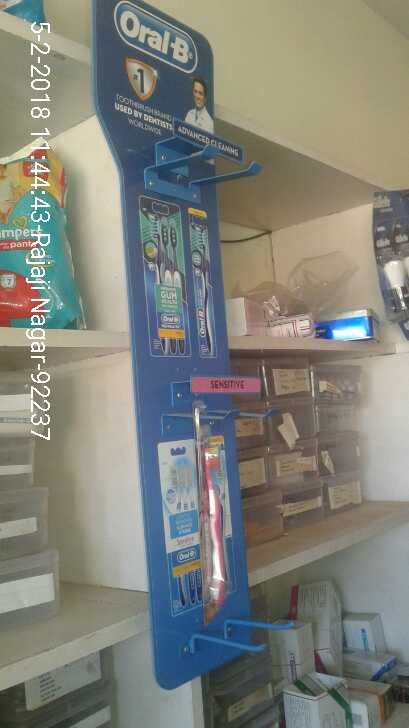oralb: (190, 429, 236, 633)
